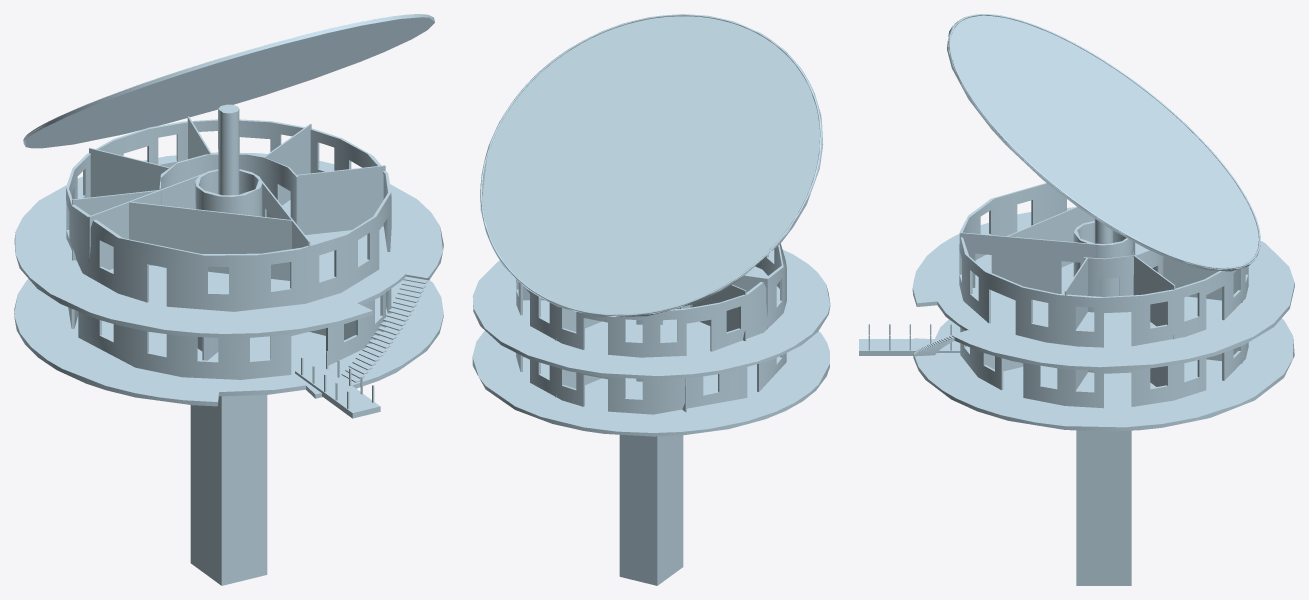
File: tower_lod2.glb
3 views of the same model, side by side, from view 1: azimuth 30°, elevation 25°; view 2: azimuth 150°, elevation 25°; view 3: azimuth 270°, elevation 25° (orthographic). The views are drawn at different scales.
Visible parts, largest first — view 1: Facade 1, Slab 1, Slab 0, Solar disc, Pod container, Radial demise wall (×5), Facade 0, Bedroom-bath wall, Corridor wall 1, Core tangent wall, Elevator shell 1, Hatch column (+2 smaller); view 2: Solar disc, Slab 1, Slab 0, Pod container, Facade 1, Facade 0, Solar rim, Radial demise wall; view 3: Solar disc, Slab 1, Slab 0, Facade 1, Pod container, Facade 0, Living-bedroom separator, Radial demise wall (×3), Corridor wall 1, Solar rim, Elevator shell 1, Bedroom-bath wall (+1 smaller).
Boxes of the visible parts, bbox=[...] form: Facade 1: bbox=[66, 119, 391, 311]; Slab 1: bbox=[14, 152, 443, 338]; Slab 0: bbox=[14, 277, 443, 406]; Solar disc: bbox=[23, 15, 434, 148]; Pod container: bbox=[190, 395, 267, 585]; Radial demise wall (×5): bbox=[72, 116, 385, 260]; Facade 0: bbox=[68, 289, 391, 379]; Bedroom-bath wall: bbox=[128, 201, 293, 280]; Corridor wall 1: bbox=[159, 153, 298, 225]; Core tangent wall: bbox=[88, 174, 201, 277]; Elevator shell 1: bbox=[195, 169, 262, 216]; Hatch column: bbox=[218, 104, 239, 195]; Solar disc: bbox=[480, 14, 823, 316]; Slab 1: bbox=[472, 249, 830, 379]; Slab 0: bbox=[472, 330, 829, 436]; Pod container: bbox=[619, 434, 683, 585]; Facade 1: bbox=[516, 243, 786, 357]; Facade 0: bbox=[516, 353, 786, 414]; Solar rim: bbox=[480, 14, 821, 316]; Radial demise wall: bbox=[692, 284, 746, 341]; Solar disc: bbox=[947, 14, 1260, 271]; Slab 1: bbox=[912, 207, 1294, 370]; Slab 0: bbox=[913, 318, 1294, 431]; Facade 1: bbox=[959, 183, 1248, 347]; Pod container: bbox=[1076, 430, 1131, 585]; Facade 0: bbox=[960, 327, 1248, 408]; Living-bedroom separator: bbox=[991, 235, 1061, 293]; Radial demise wall (×3): bbox=[1064, 255, 1242, 339]; Corridor wall 1: bbox=[1083, 242, 1163, 312]; Solar rim: bbox=[948, 14, 1260, 269]; Elevator shell 1: bbox=[1073, 221, 1133, 296]; Bedroom-bath wall: bbox=[1006, 206, 1094, 267].
Bounding box in the file's own units: 20 × 30.8 × 22.79.
